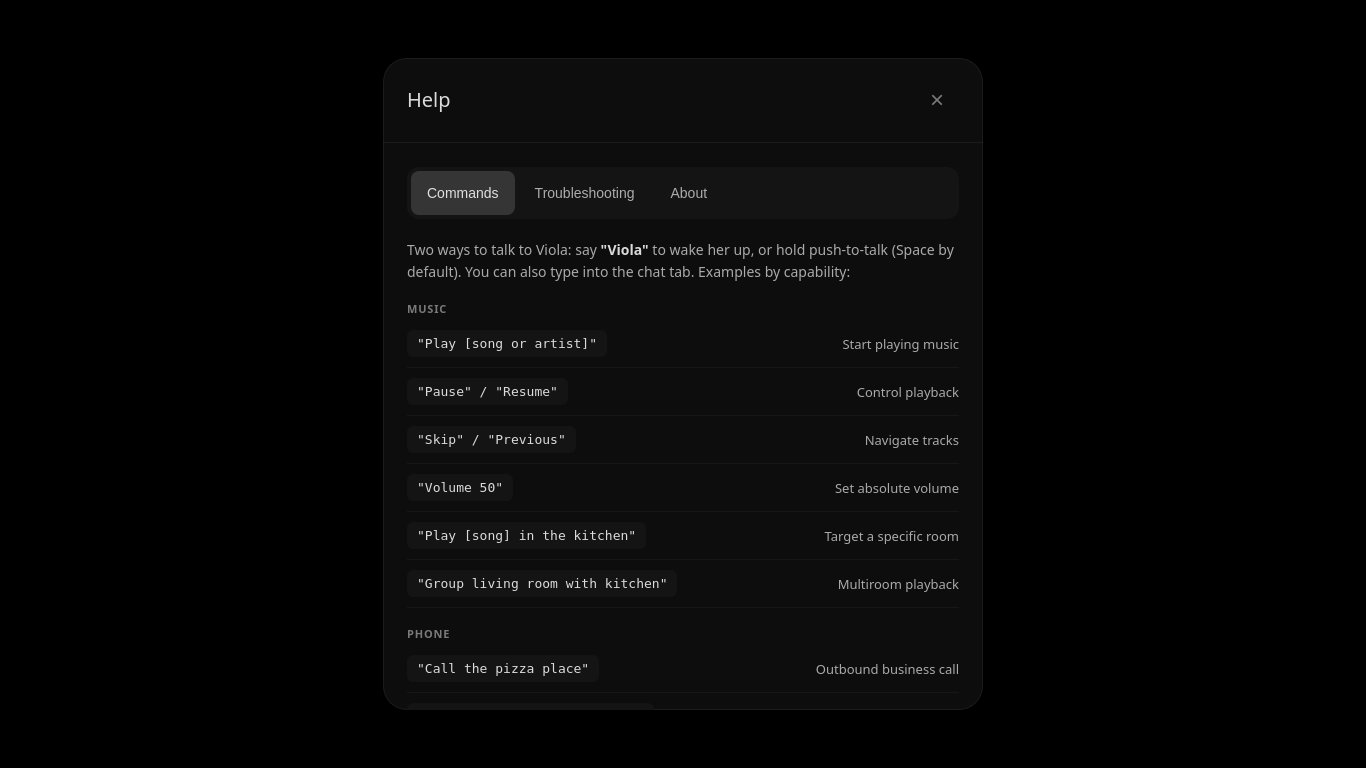
HelpModal current desktop guidance › explains unavailable training while preserving installed wake-word selection
The width and height of the screenshot is (1366, 768).
Click the button "Troubleshooting": (585, 193) [519, 171, 650, 215]
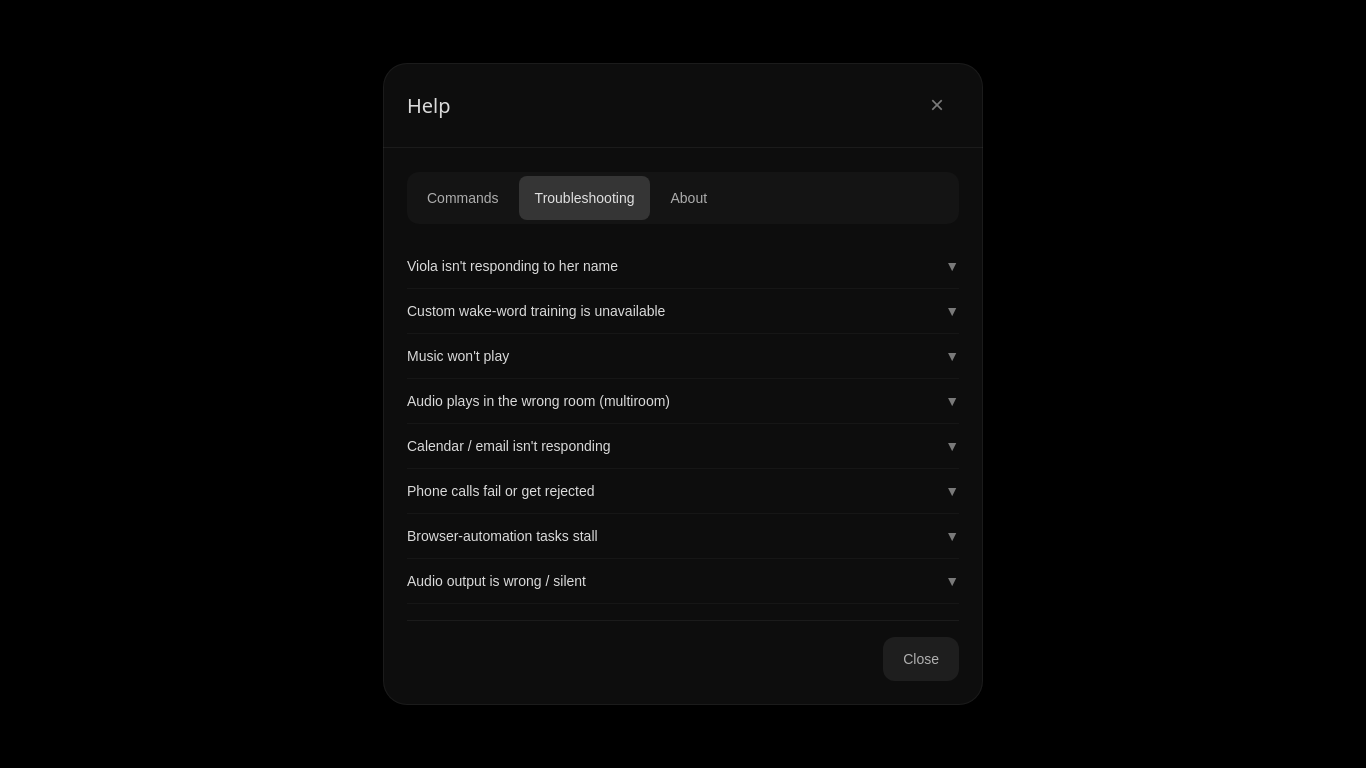
Click the button "Custom wake-word training is unavailable ▼": (536, 311) [407, 289, 959, 333]
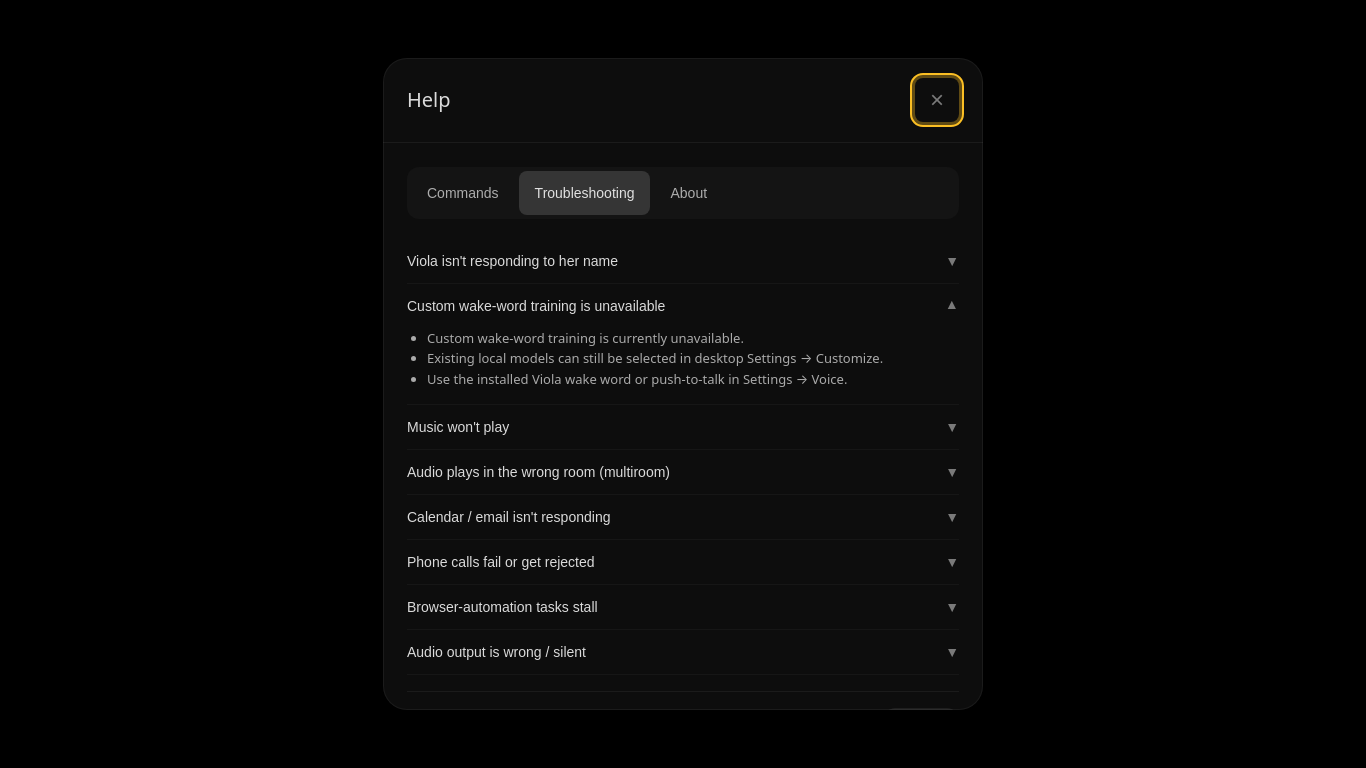
Expected: the list item "Custom wake-word training is currently unavailable." is shown, [427, 329, 744, 347]
Expected: the list item "Existing local models" shows "Settings → Customize", [427, 349, 883, 367]
